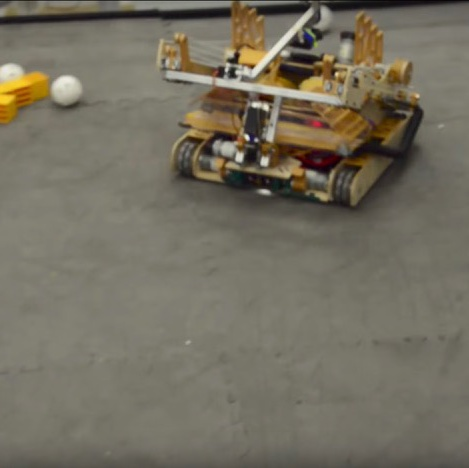robot: (150, 2, 430, 212)
